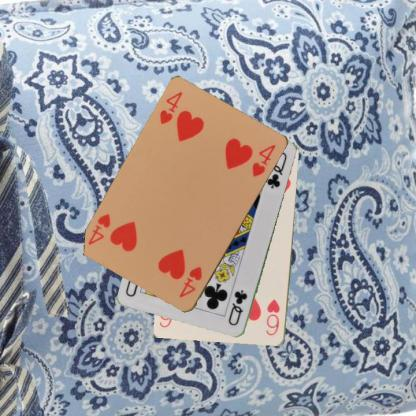4h: (157, 89, 184, 126), (176, 264, 204, 299)
6h: (263, 296, 282, 337)
Qc: (226, 288, 249, 328)
